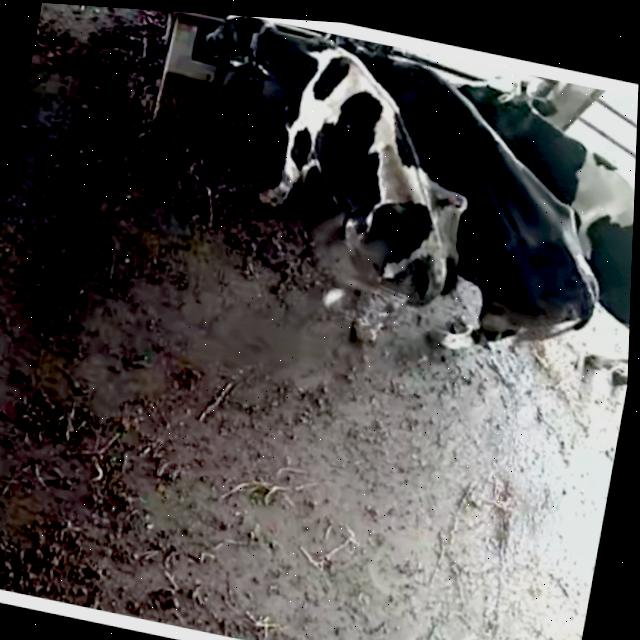drink: (311, 32, 473, 137)
